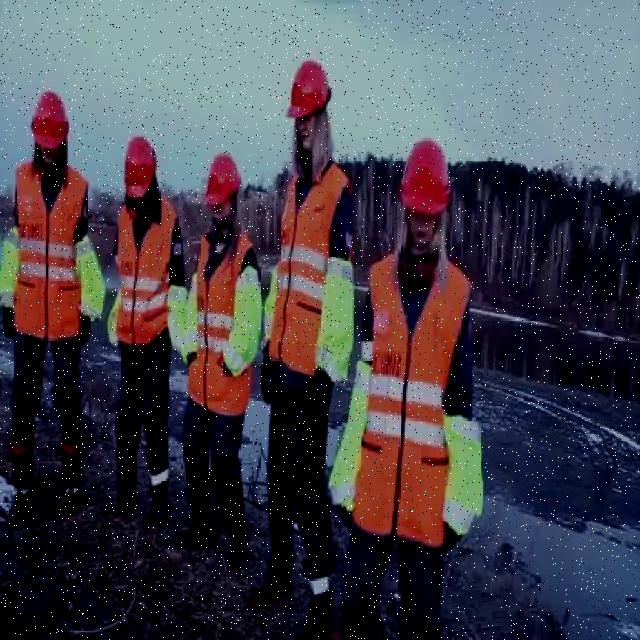Gloves: (260, 349, 272, 403), (0, 307, 16, 338), (79, 316, 92, 344)
Helmet: (402, 140, 452, 208), (288, 58, 334, 120), (31, 90, 70, 152), (122, 136, 156, 202), (205, 151, 242, 207)
Mask: (340, 132, 486, 638), (249, 156, 354, 638), (0, 162, 103, 524), (368, 246, 472, 545), (182, 230, 260, 564), (110, 196, 186, 522), (268, 160, 350, 380), (16, 162, 90, 338), (185, 232, 253, 414), (115, 194, 178, 348), (334, 352, 370, 516), (446, 411, 488, 544), (324, 251, 356, 384), (229, 269, 262, 374), (79, 225, 104, 326), (0, 214, 22, 303), (168, 282, 186, 350), (262, 266, 278, 342), (188, 266, 200, 357), (108, 294, 120, 350)
